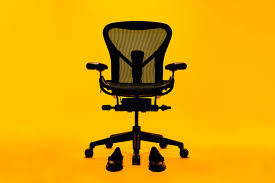chair: (86, 21, 192, 171)
